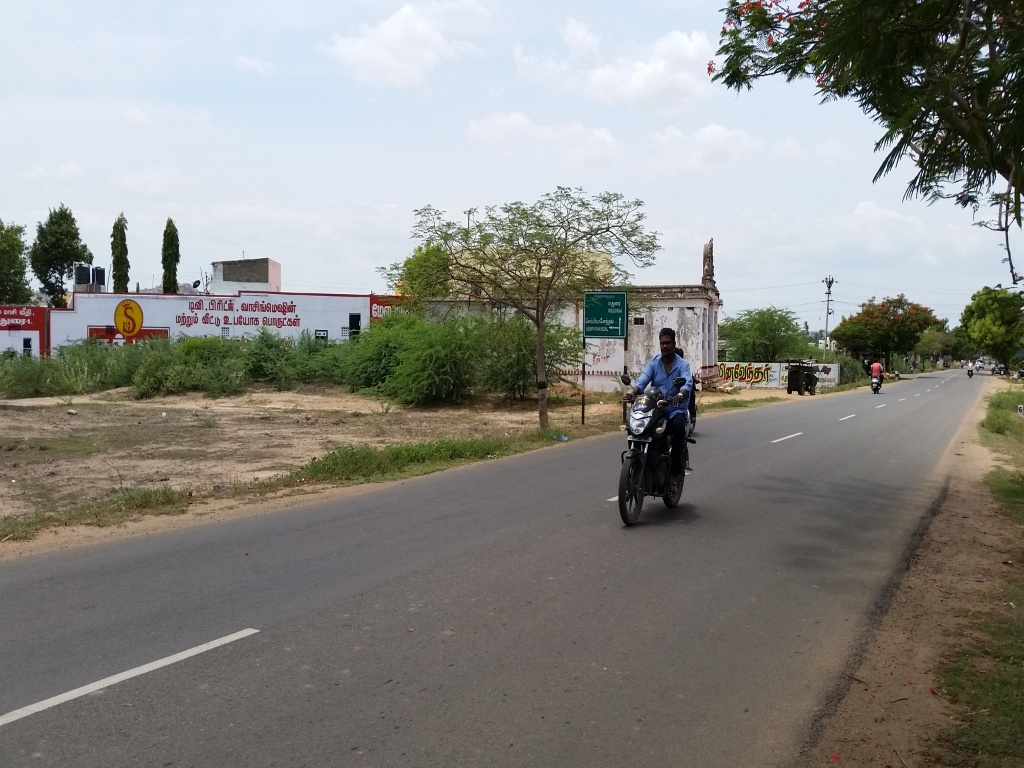biker: (608, 307, 721, 534)
nohelmet: (650, 313, 691, 370)
